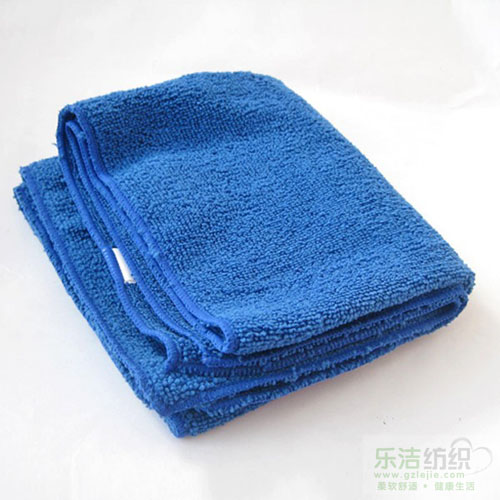flexible: (10, 69, 477, 441)
